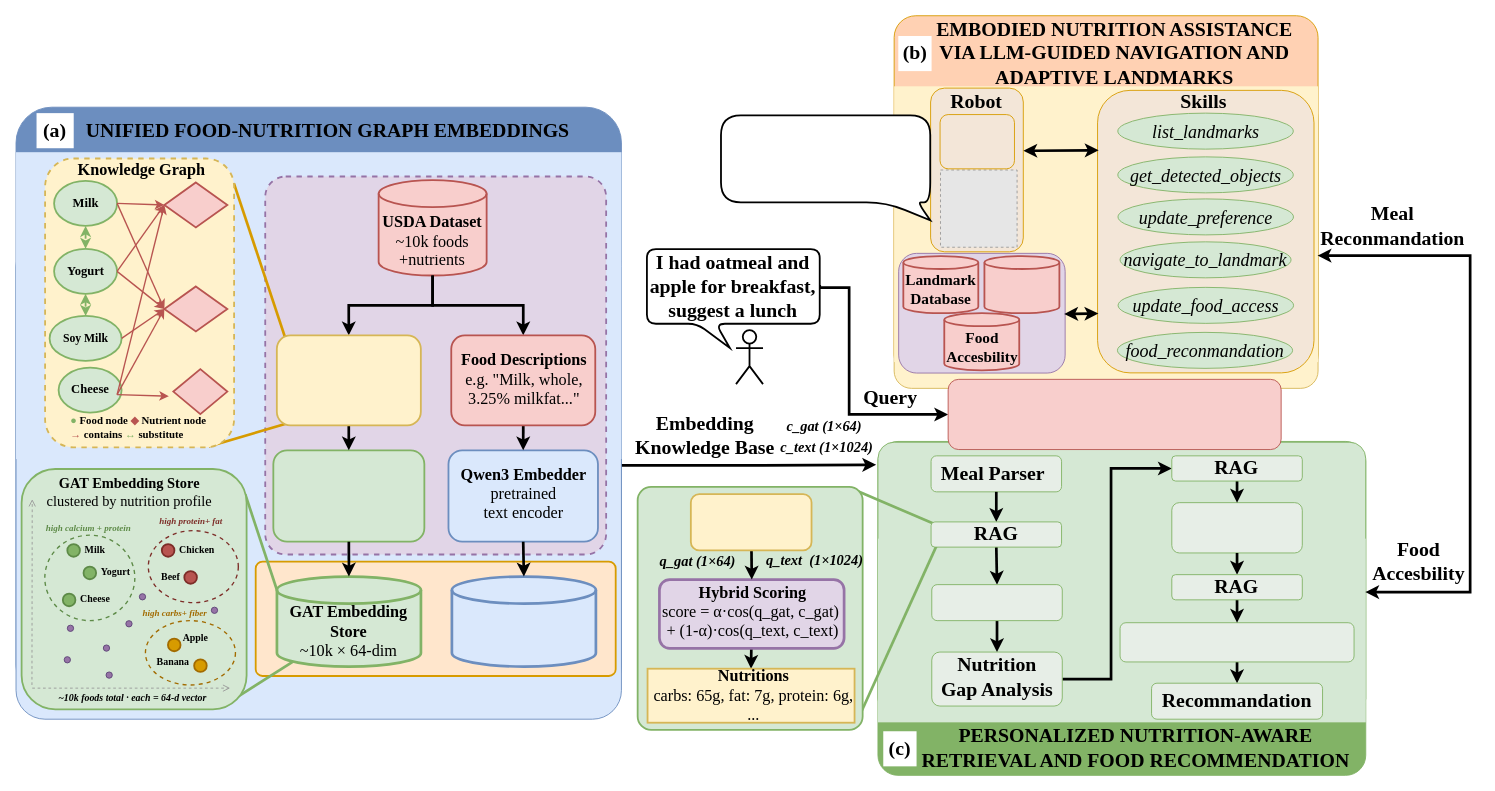
This 1495x791 diagram has some shape labels left out. Grey dashed boxes stand in for pictures. Each missing label, with the box of its shape:
Accessble Food Substitute: (1119, 622, 1354, 662)
Calcium: (163, 181, 228, 228)
Fat: (172, 368, 228, 415)
Food Candidates: (1171, 502, 1302, 553)
GAT Model trained on: nutrient regression + substitution: (272, 449, 425, 542)
I suggest Pan-Seared Salmon with Quinoa & Avocado Salad: (720, 114, 931, 221)
Knowledge Graph food + nutrient + recipe + tag G = (V, E): (275, 334, 421, 426)
LLM (QWen3.5 9B): (947, 378, 1281, 450)
Nutritions: (931, 584, 1062, 621)
Object Detector: (939, 114, 1014, 169)
Preference Memory: (983, 255, 1060, 314)
Protein: (163, 285, 228, 332)
System Request " oatmeal, apple": (689, 493, 812, 551)
Text Embedding Store ~10k × 1024-dim: (450, 575, 597, 667)
